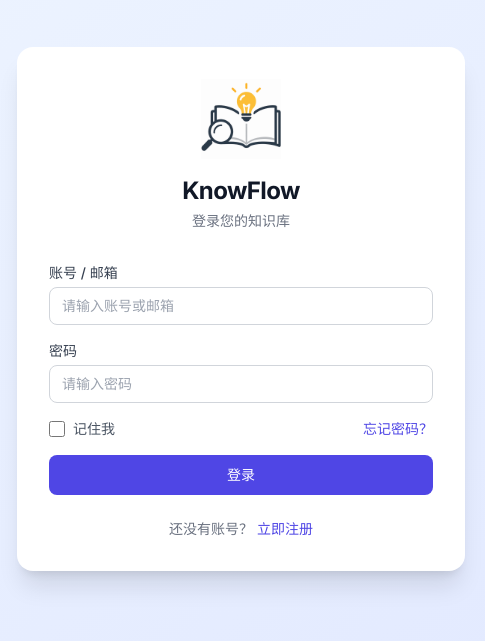
it: LoginPage – form submission › displays an error message when login fails
Type "baduser" into the field labelled "账号 / 邮箱" at x=241, y=306, box [49,287,433,325]
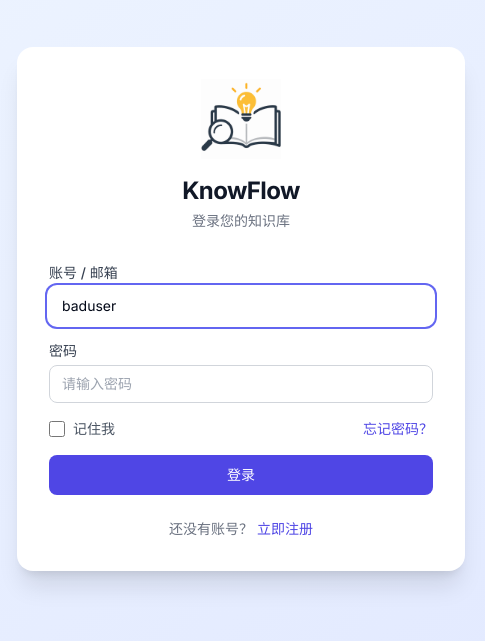
Type "wrongpassword" into the password field labelled "密码" at x=241, y=384, box [49,365,433,403]
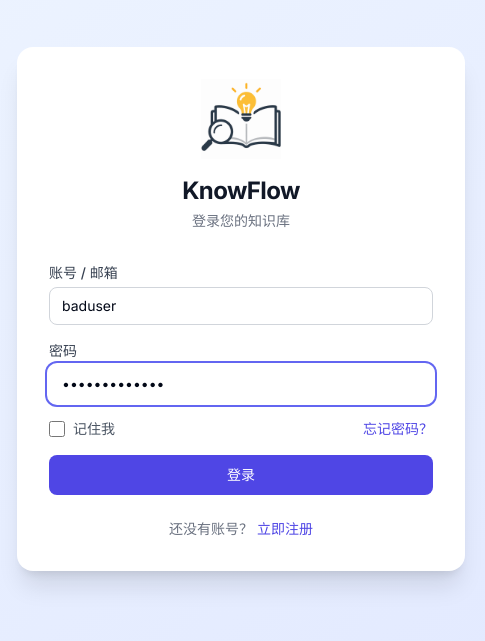
Click the button "登录" at x=241, y=475, box [49,455,433,495]
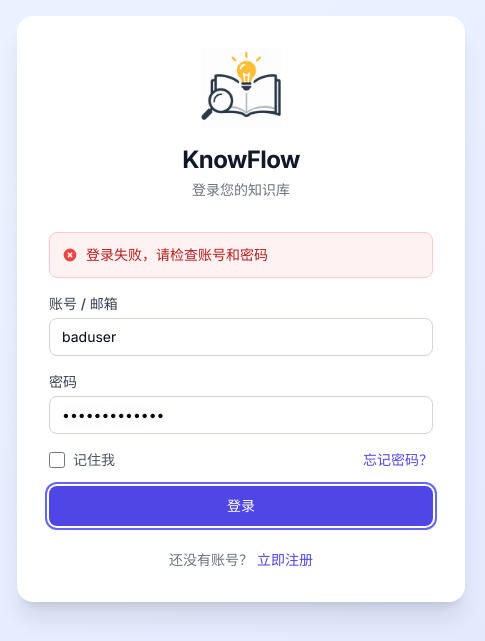
expect the text "登录失败，请检查账号和密码" is shown: met, box [86,245,268,265]
